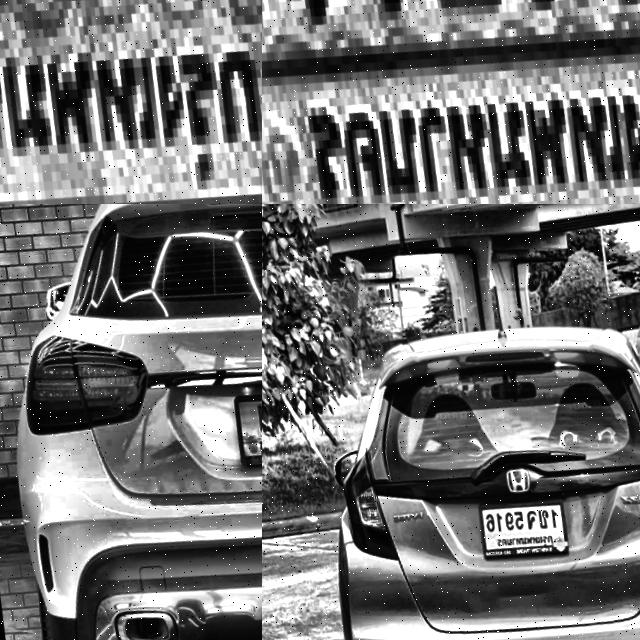license-plate: (262, 0, 640, 204), (0, 0, 262, 204), (477, 476, 578, 563), (233, 367, 262, 474)
